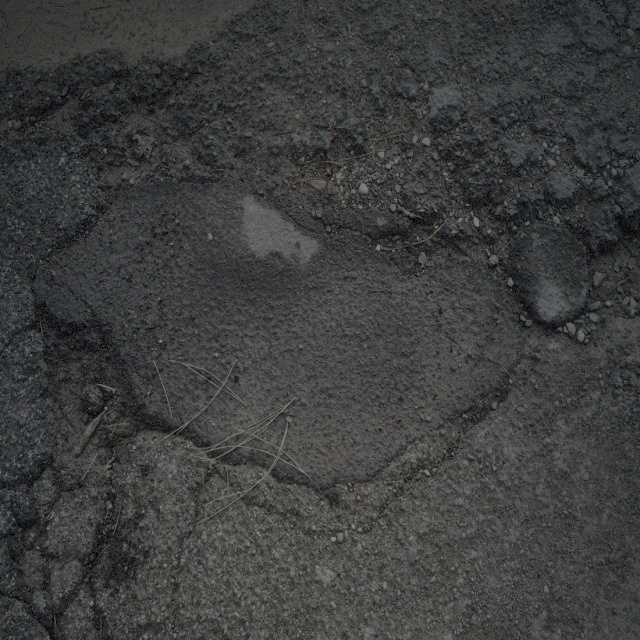pothole: (23, 276, 146, 494), (575, 206, 634, 329)
